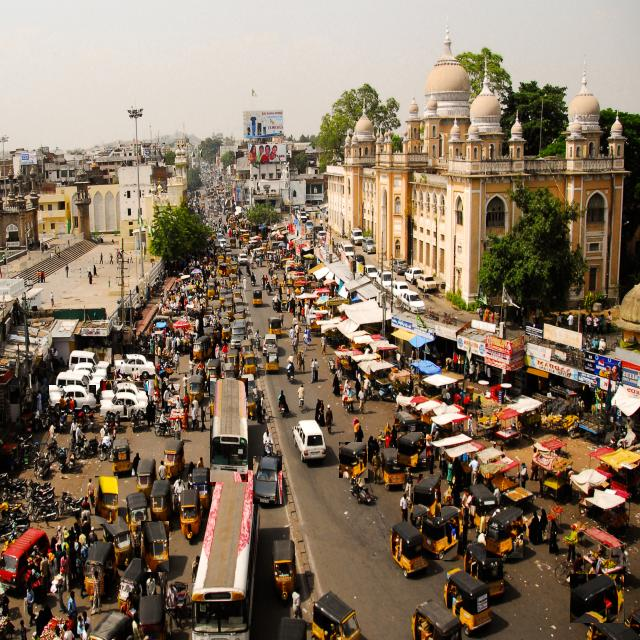autorickshaw: (444, 571, 491, 635), (570, 574, 624, 623), (311, 593, 360, 640), (464, 542, 504, 596), (422, 506, 462, 560), (390, 521, 428, 577), (486, 507, 522, 558), (102, 516, 132, 567), (141, 521, 169, 572), (272, 540, 296, 599), (413, 475, 440, 517), (180, 489, 202, 540), (95, 477, 118, 524), (339, 442, 368, 478), (381, 448, 405, 490), (397, 433, 425, 467), (150, 480, 172, 523), (164, 439, 185, 480), (112, 438, 131, 477)
bus: (191, 470, 259, 640), (210, 378, 248, 482)
car: (292, 421, 326, 462), (253, 457, 281, 504), (49, 385, 96, 412), (100, 393, 148, 419), (100, 382, 148, 405), (114, 354, 155, 380)
motorcycle: (59, 492, 84, 519)
